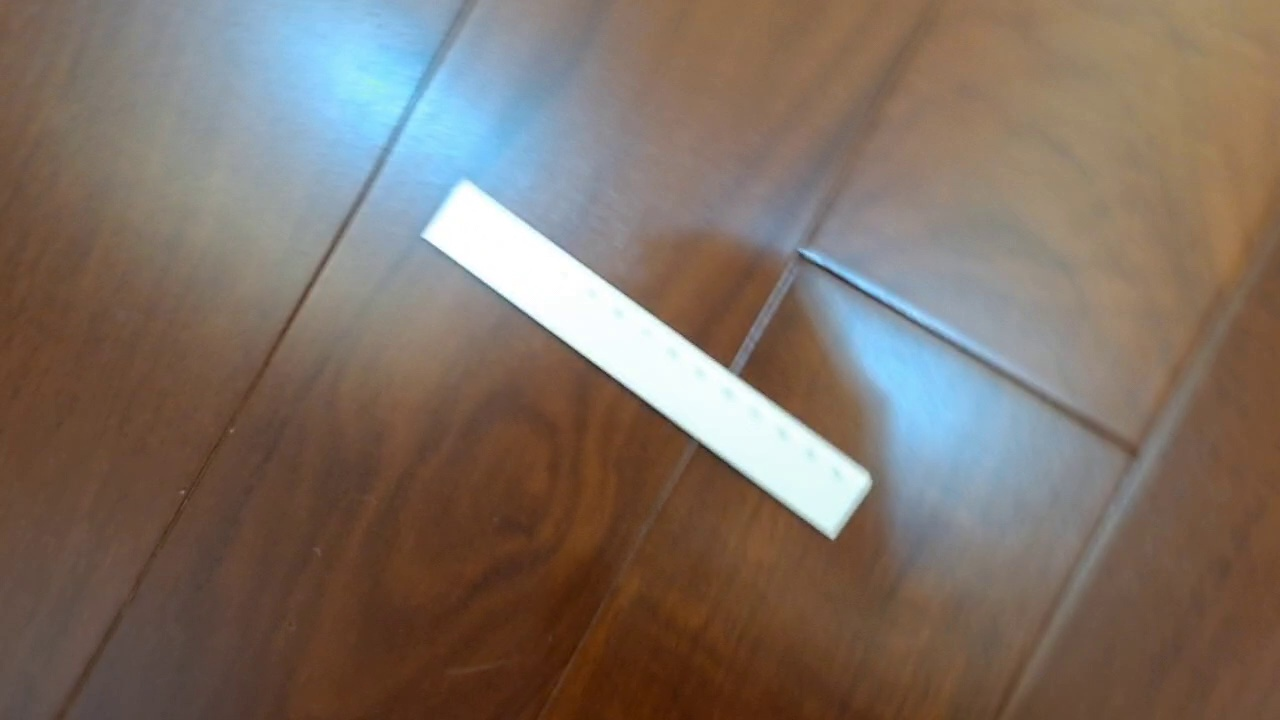ruler: (418, 174, 875, 544)
